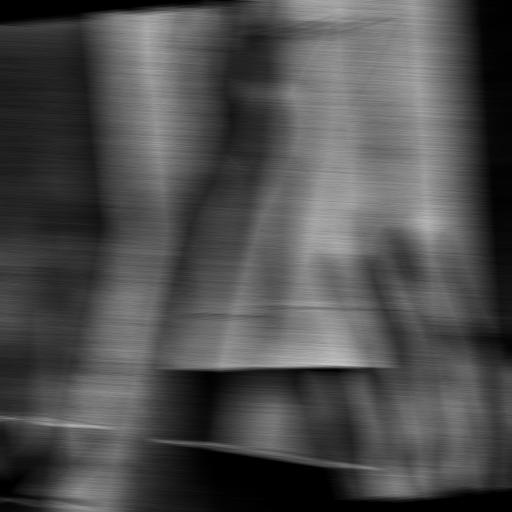bottom_left: (457, 355, 479, 364)
bottom_right: (136, 365, 158, 374)
envelop: (133, 4, 415, 339)
